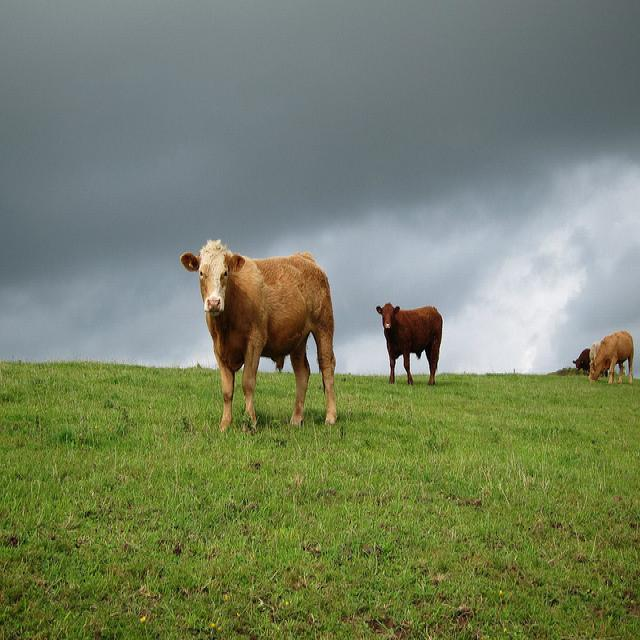cow: (176, 236, 336, 431), (373, 299, 443, 383), (588, 328, 633, 385), (588, 340, 607, 376), (571, 347, 591, 371)
